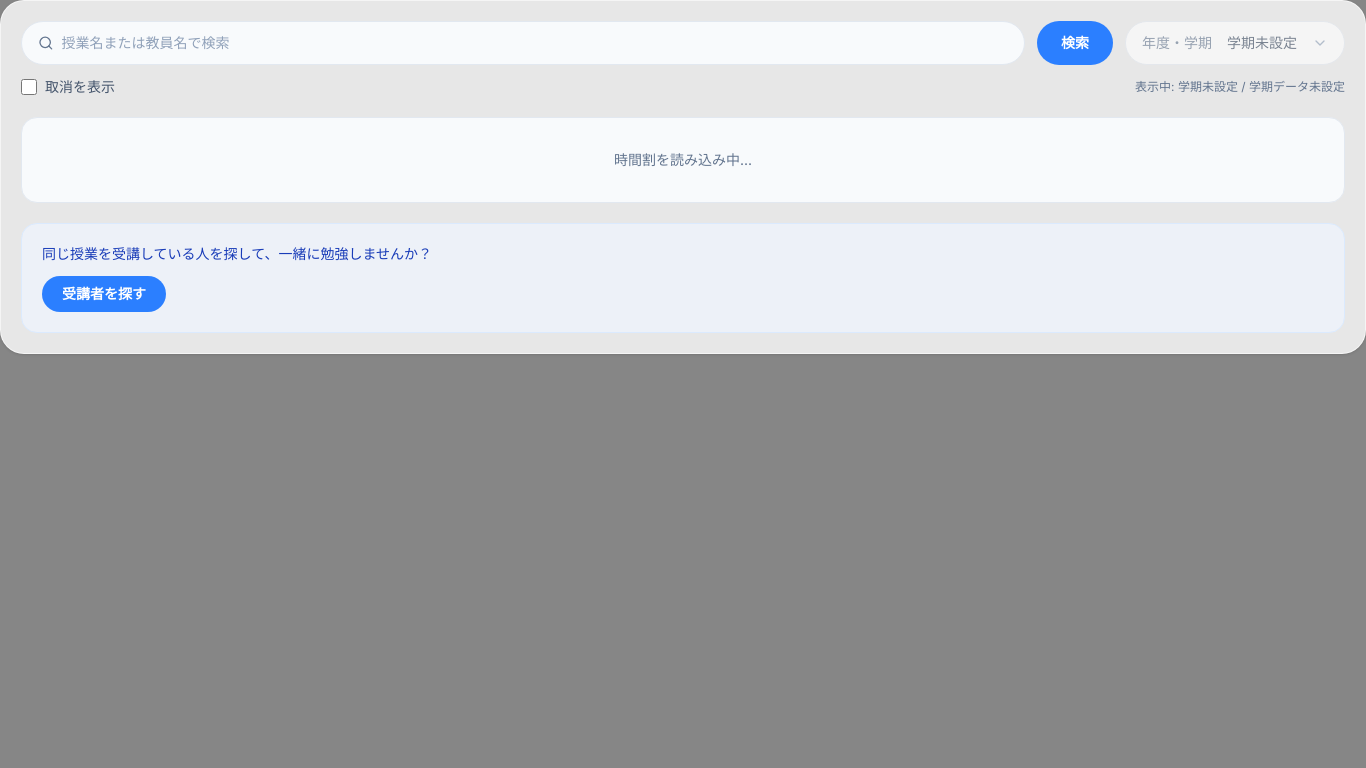
Test: TimetableGrid › shows dropped offerings and allows restoring them when the toggle is enabled
Click the checkbox labelled "取消を表示".
click(29, 87)  # box top-left (21, 79), bottom-right (37, 95)
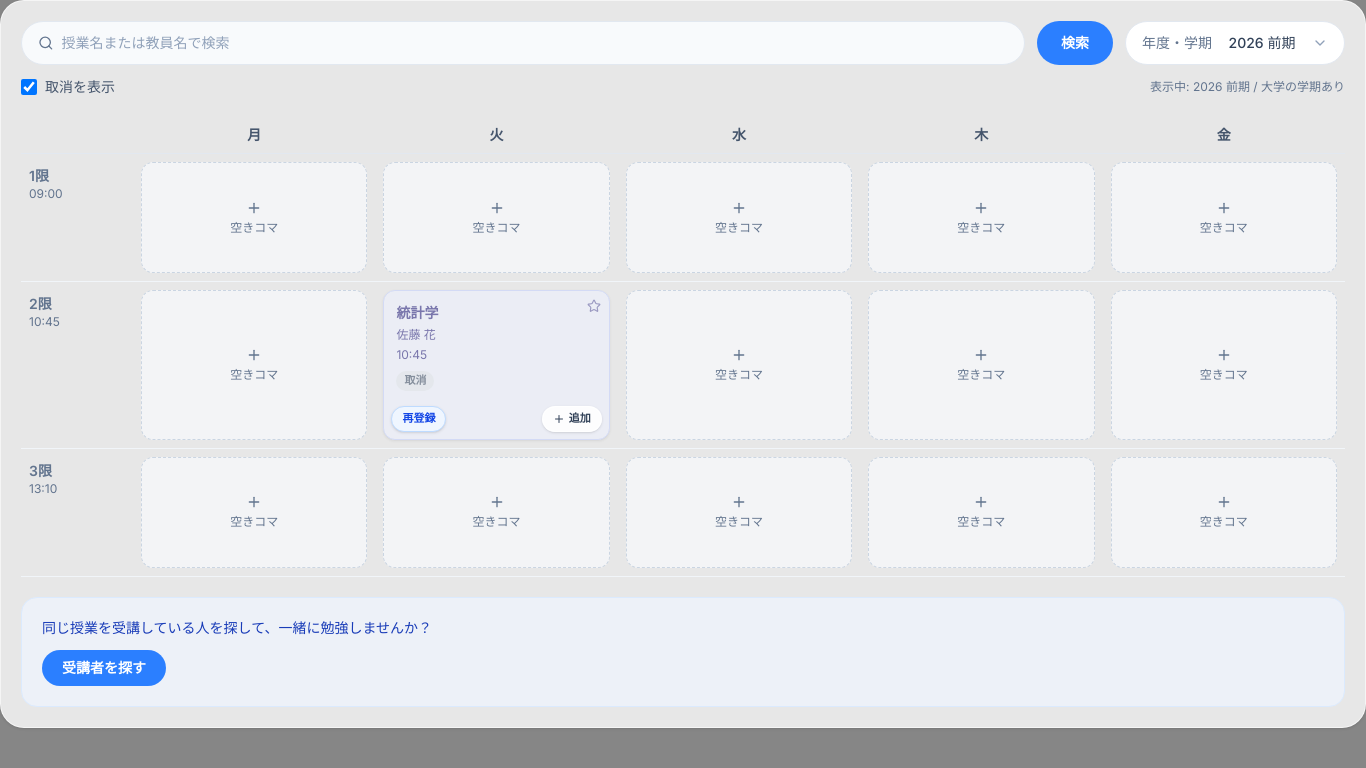
Now the text "統計学" is shown, box top-left (396, 304), bottom-right (438, 321)
Click the button with aria-label "時間割へ再登録".
click(419, 419)  # box top-left (391, 406), bottom-right (446, 432)
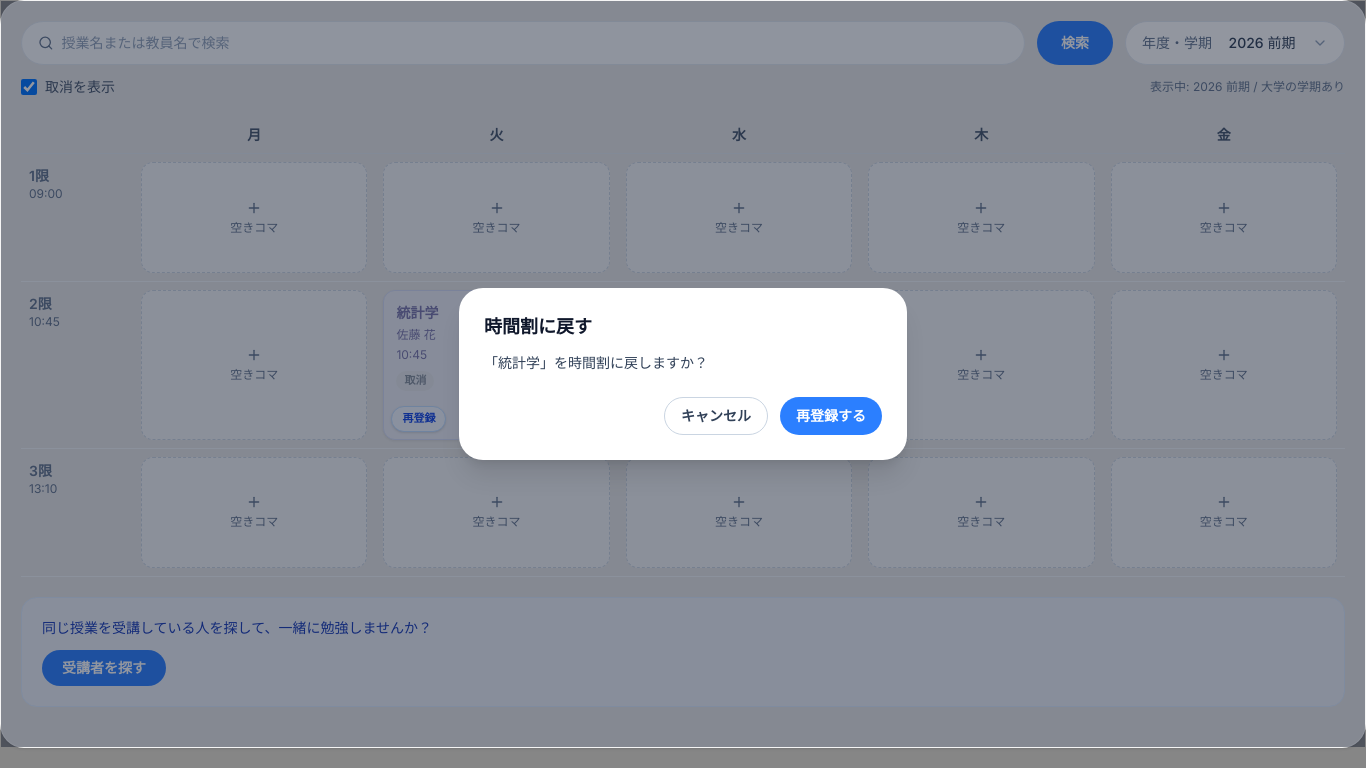
Now the dialog "時間割に戻す" is shown, box top-left (459, 288), bottom-right (907, 460)
Click the button "再登録する".
click(831, 416)  # box top-left (780, 397), bottom-right (882, 435)
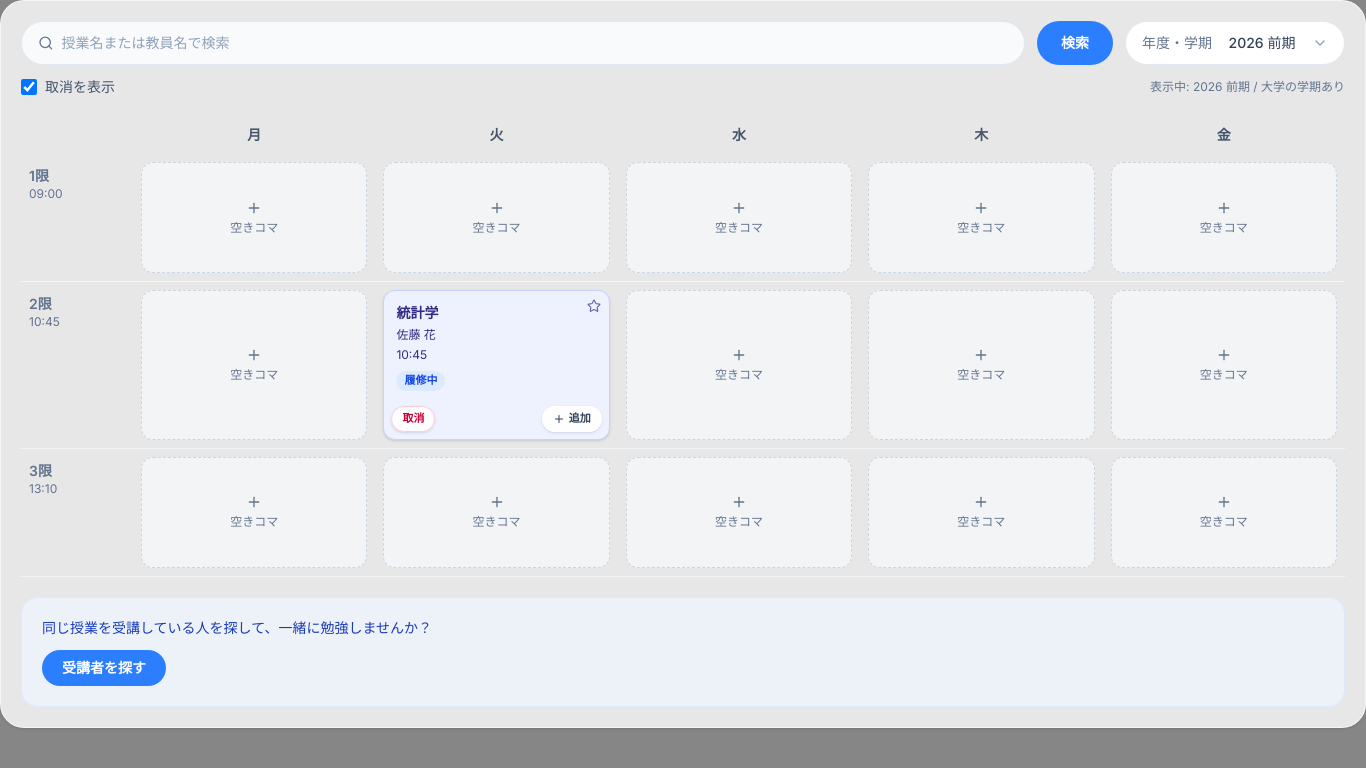
Now the text "履修中" is shown, box top-left (396, 371), bottom-right (445, 391)
